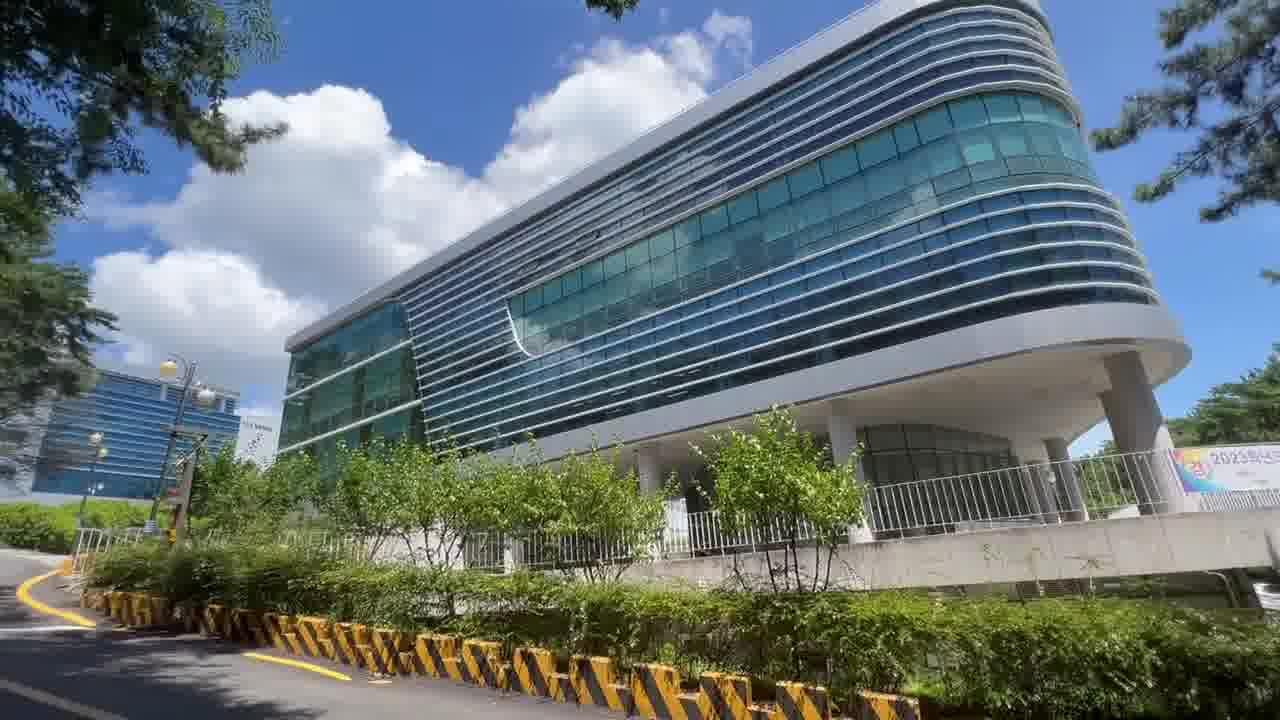building: (326, 8, 1158, 446)
